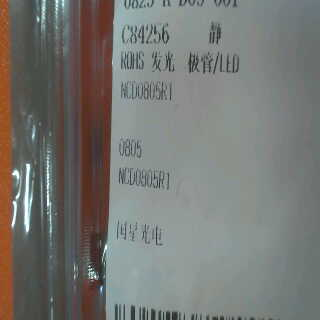LED: (149, 48, 241, 76)
